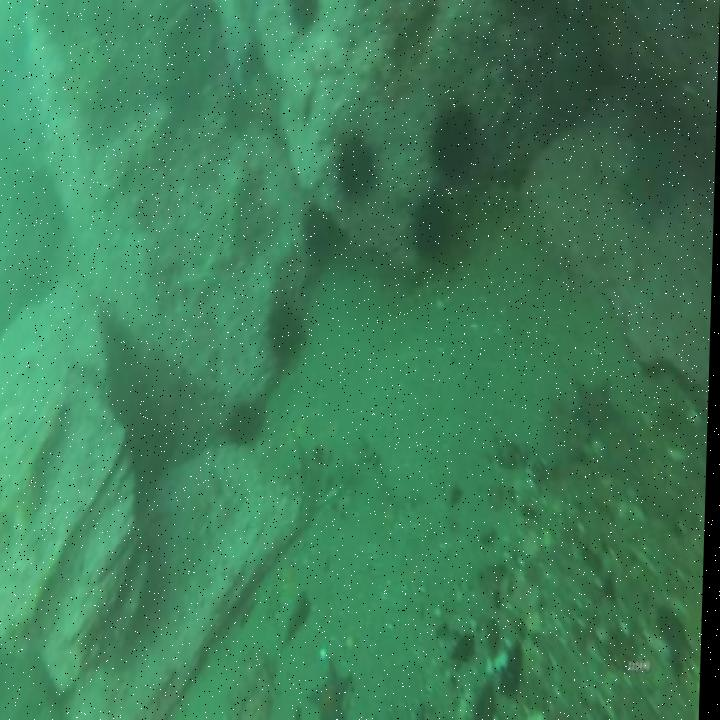echinus: (433, 110, 479, 178), (414, 195, 454, 262), (307, 208, 341, 265), (270, 308, 307, 358), (340, 142, 375, 192), (234, 407, 266, 443)
starfish: (576, 378, 625, 434), (313, 663, 356, 720)
